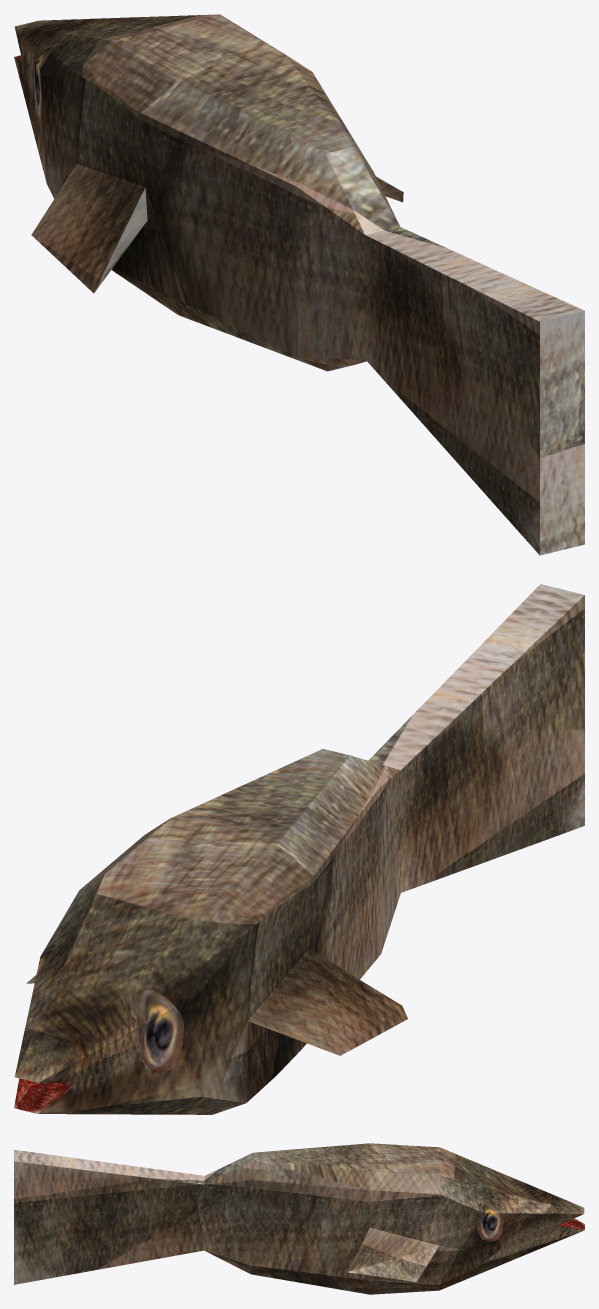
The model's file is fish_alive_1.fbx.
The picture shows the model from 3 angles, top to bottom: view 1: azimuth 30°, elevation 25°; view 2: azimuth 150°, elevation 25°; view 3: azimuth 270°, elevation 25°; orthographic projection. The views are drawn at different scales.
Visible parts, largest first — view 1: Cube; view 2: Cube; view 3: Cube.
Boxes of the visible parts, x1=… form: Cube: x1=14, y1=14, x2=584, y2=555; Cube: x1=14, y1=584, x2=584, y2=1114; Cube: x1=14, y1=1143, x2=584, y2=1294.
Bounding box in the file's own units: 148 × 103 × 433.
Materials: 1 (1 with a texture image).
